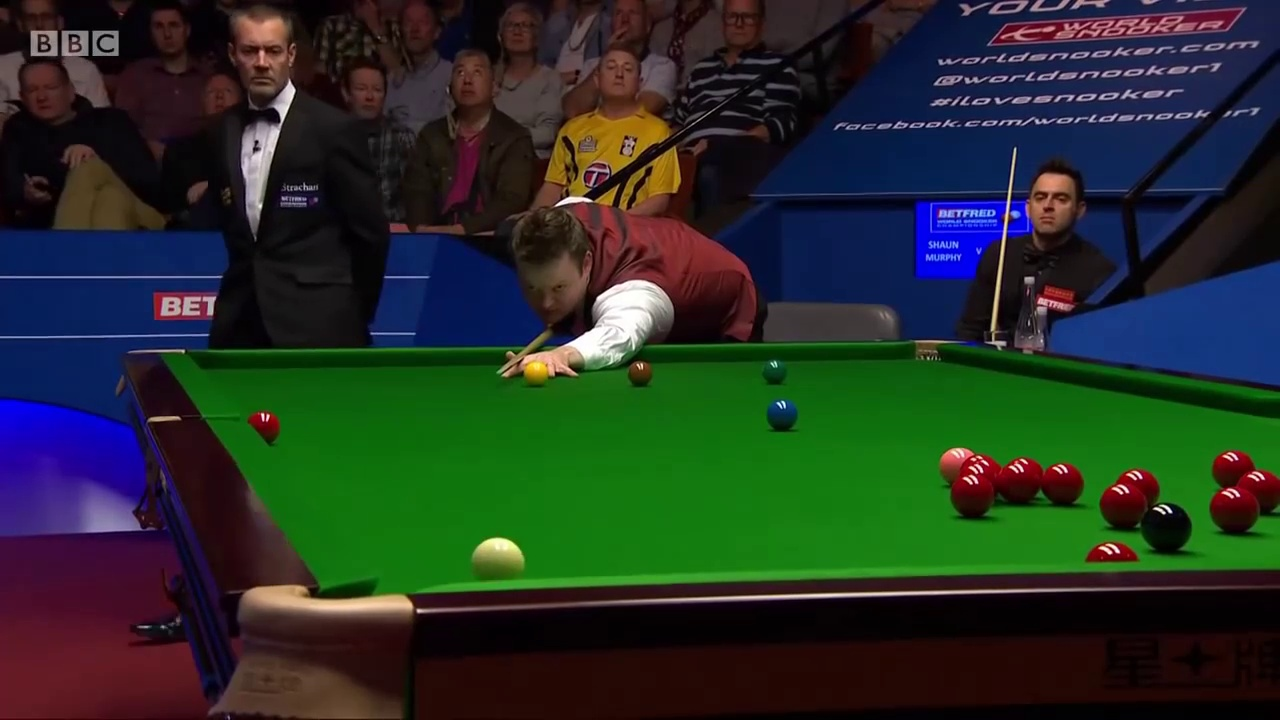black: (1143, 502, 1189, 550)
blue: (767, 394, 798, 430)
brown: (628, 359, 654, 386)
green: (764, 358, 787, 382)
red: (1209, 486, 1261, 536), (948, 472, 992, 518), (1041, 460, 1084, 504), (997, 462, 1040, 505), (1100, 486, 1143, 529), (248, 412, 279, 434)
white: (471, 539, 527, 578)
yellow: (523, 363, 549, 384)
